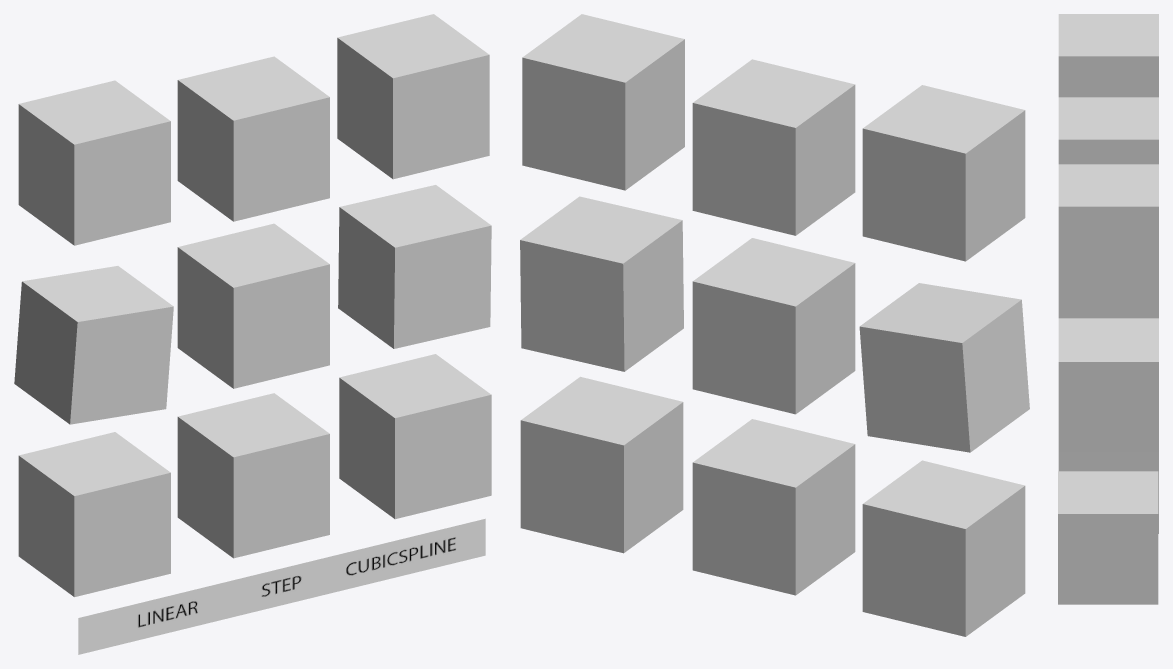
File: InterpolationTest.glb
3 renders of one model, left to right at view 1: azimuth 30°, elevation 25°; view 2: azimuth 150°, elevation 25°; view 3: azimuth 270°, elevation 25°, orthographic. The views are drawn at different scales.
Visible parts, largest first — view 1: Cube.002, Cube.009, Cube, Cube.001, Cube.008, Cube.003, Cube.006, Cube.004, Cube.005, Plane; view 2: Cube.006, Cube.003, Cube.002, Cube, Cube.001, Cube.009, Cube.004, Cube.008, Cube.005; view 3: Cube.004, Cube.002, Cube.008, Cube.009, Cube.006, Cube.003, Cube.
Part boxes in pixels (bbox=[...]): Cube.002: bbox=[339, 354, 491, 519]; Cube.009: bbox=[18, 80, 170, 245]; Cube: bbox=[177, 393, 329, 558]; Cube.001: bbox=[18, 432, 170, 597]; Cube.008: bbox=[337, 14, 489, 179]; Cube.003: bbox=[177, 223, 329, 388]; Cube.006: bbox=[177, 56, 329, 221]; Cube.004: bbox=[338, 185, 491, 348]; Cube.005: bbox=[14, 266, 173, 424]; Plane: bbox=[78, 518, 485, 654]; Cube.006: bbox=[692, 59, 855, 235]; Cube.003: bbox=[692, 238, 855, 414]; Cube.002: bbox=[520, 376, 683, 553]; Cube: bbox=[692, 419, 855, 595]; Cube.001: bbox=[862, 460, 1025, 636]; Cube.009: bbox=[862, 85, 1025, 261]; Cube.004: bbox=[520, 196, 683, 371]; Cube.008: bbox=[522, 14, 684, 190]; Cube.005: bbox=[859, 283, 1029, 452]; Cube.004: bbox=[1058, 318, 1158, 452]; Cube.002: bbox=[1058, 471, 1158, 604]; Cube.008: bbox=[1058, 164, 1158, 297]; Cube.009: bbox=[1058, 14, 1158, 97]; Cube.006: bbox=[1058, 97, 1158, 164]; Cube.003: bbox=[1058, 297, 1158, 318]; Cube: bbox=[1058, 452, 1158, 533].
Bounding box in the file's own units: 8.74 × 10.12 × 2.01.
Materials: 10 (1 with a texture image).
